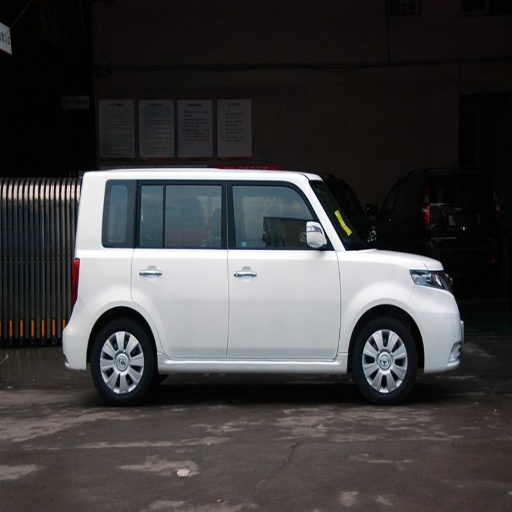back_right_door: (133, 180, 228, 357)
front_right_door: (228, 180, 340, 358)
